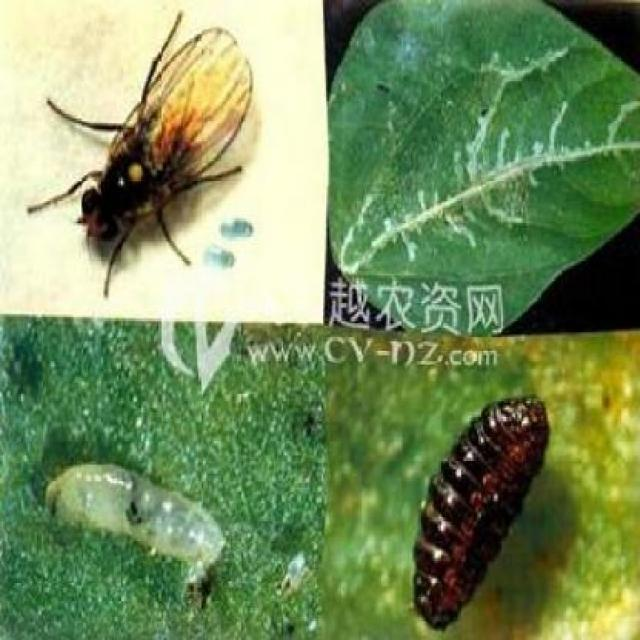whorl-maggot: (398, 375, 556, 640), (37, 446, 229, 579)
